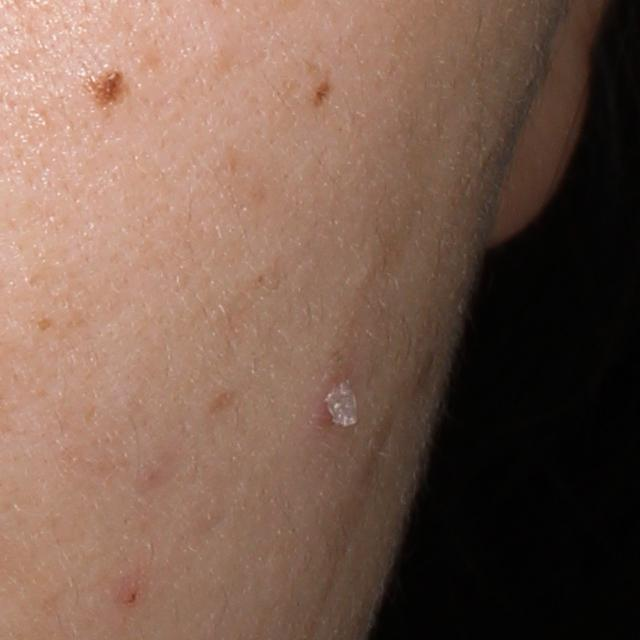nevus: (81, 65, 133, 115), (308, 73, 333, 109)
other: (324, 376, 362, 436)
papule: (115, 574, 147, 611)
